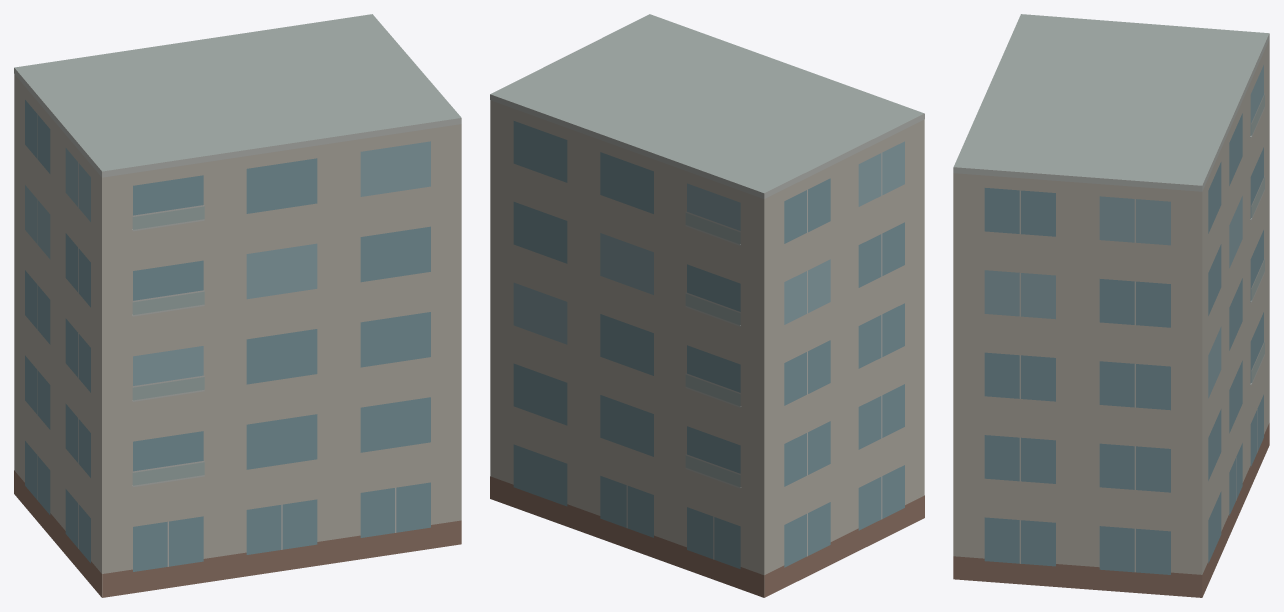
The model's file is survey-upis-32521353.glb.
The picture shows the model from 3 angles, left to right: view 1: azimuth 30°, elevation 25°; view 2: azimuth 150°, elevation 25°; view 3: azimuth 270°, elevation 25°; orthographic projection. The views are drawn at different scales.
Parts seen in each view (by area): view 1: survey-upis-32521353.tmp; view 2: survey-upis-32521353.tmp; view 3: survey-upis-32521353.tmp.
Part boxes in pixels (x1,y1,x2,y2): survey-upis-32521353.tmp: [14, 14, 461, 597]; survey-upis-32521353.tmp: [490, 14, 924, 597]; survey-upis-32521353.tmp: [953, 14, 1269, 597].
Bounding box in the file's own units: 15.12 × 16.9 × 11.76.
